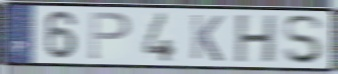4: (141, 11, 177, 64)
6: (44, 10, 79, 61)
H: (233, 13, 279, 66)
K: (189, 12, 225, 63)
P: (88, 10, 133, 62)
S: (281, 14, 327, 66)
